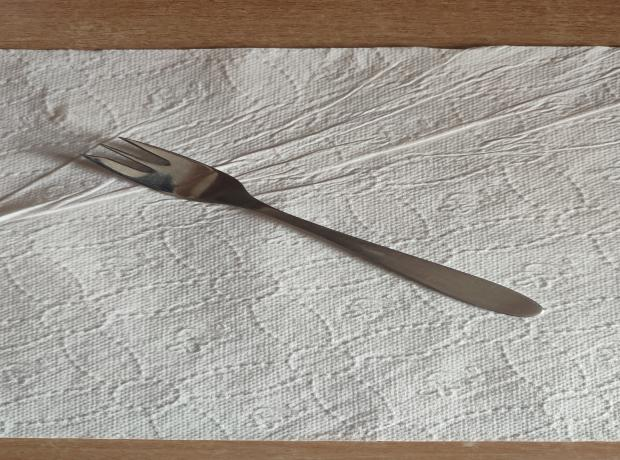metal: (4, 135, 544, 320)
